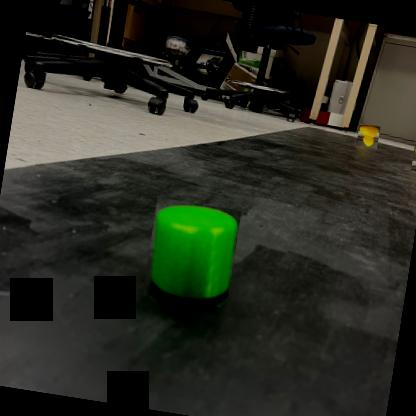duck: (356, 122, 380, 148), (410, 140, 416, 172)
green cylinder: (141, 197, 242, 308)
